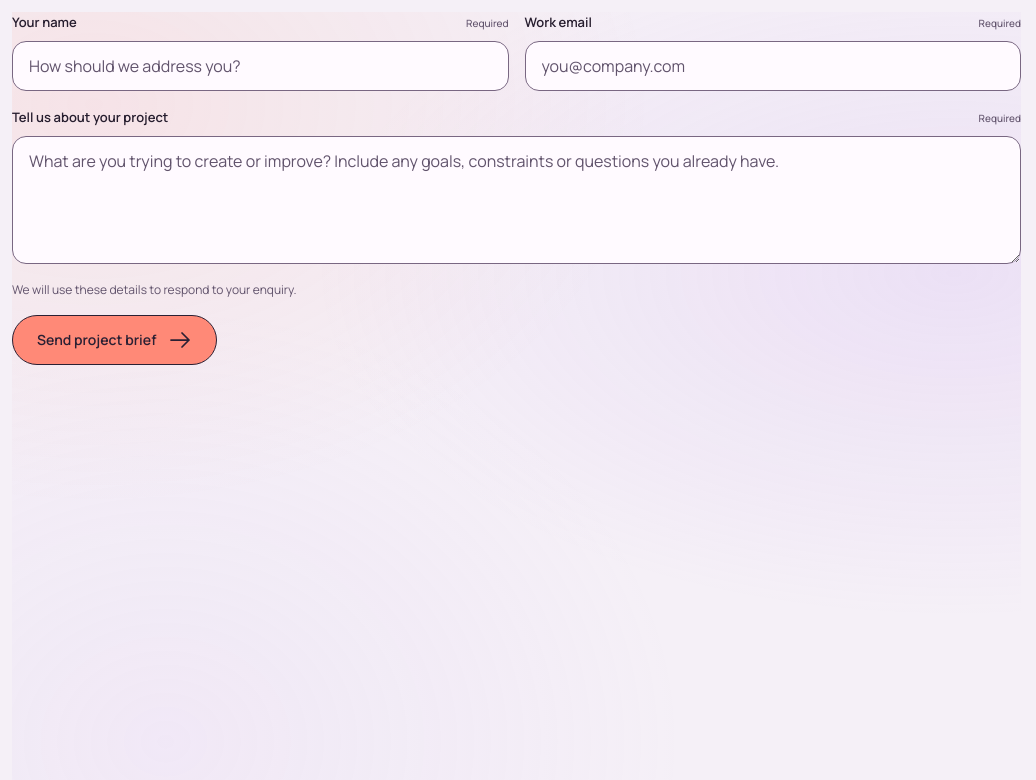
Test: short Home enquiry › maps server field errors into the same summary and inline description
This screenshot has width=1036, height=780.
Type "  Alex Morgan  " into the field labelled "Your name Required" at coordinates (260, 66), box [12,41,508,91]
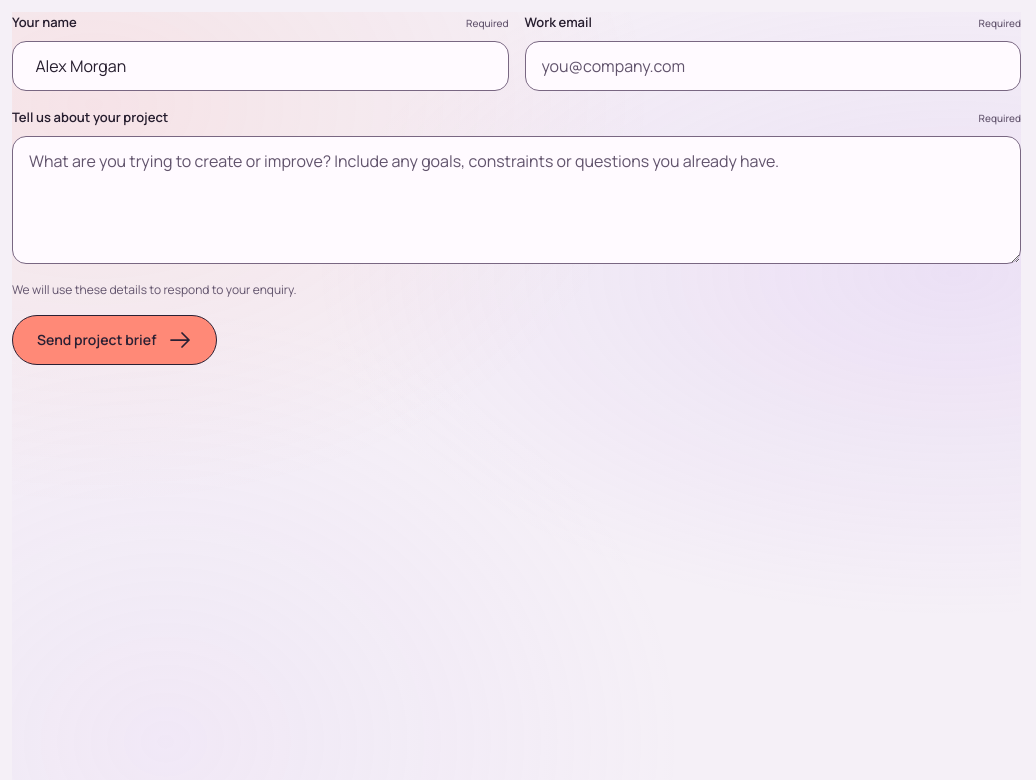
Type "alex@example.com" into the field labelled "Work email Required" at coordinates (773, 66), box [524,41,1021,91]
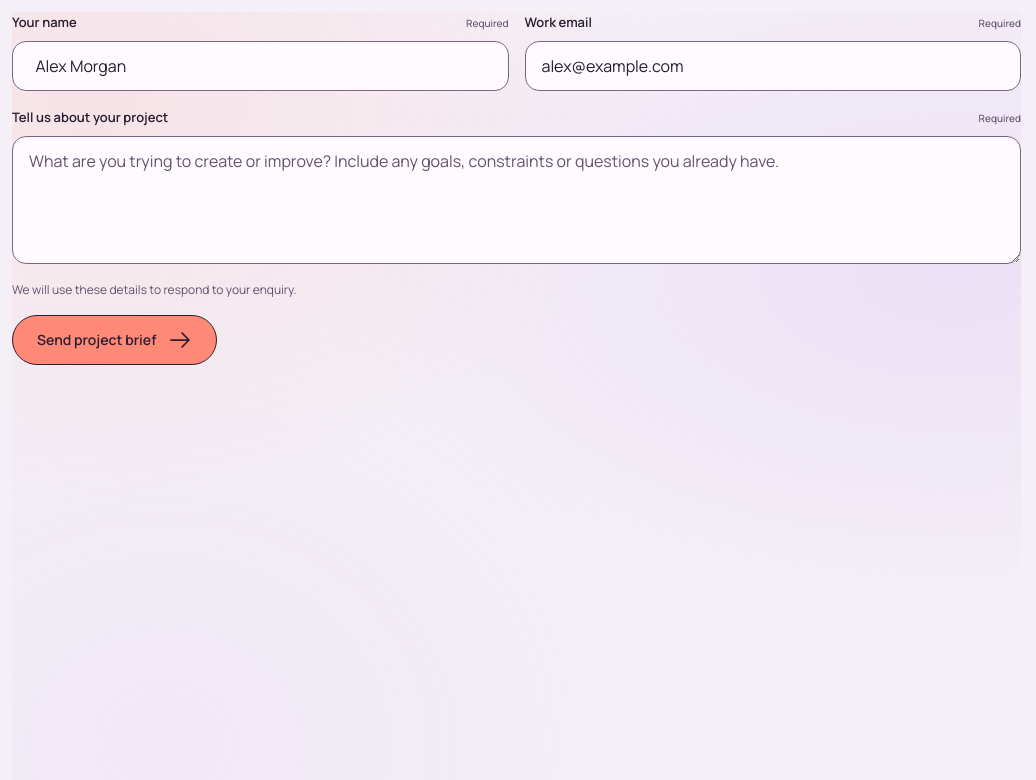
Replace the text in the text box labelled "Tell us about your project Required" with "We need a customer portal to replace our spreadsheet workflow." at coordinates (516, 200), box [12,136,1021,264]
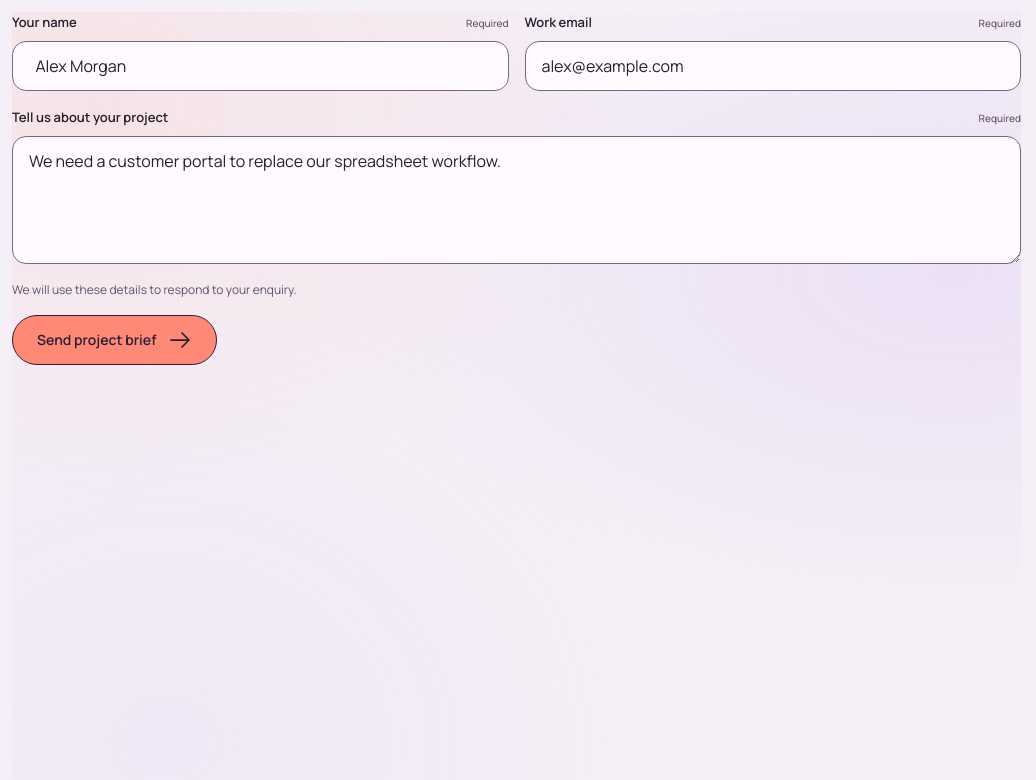
Click the button "Send project brief" at coordinates (115, 340), box [12,315,217,365]
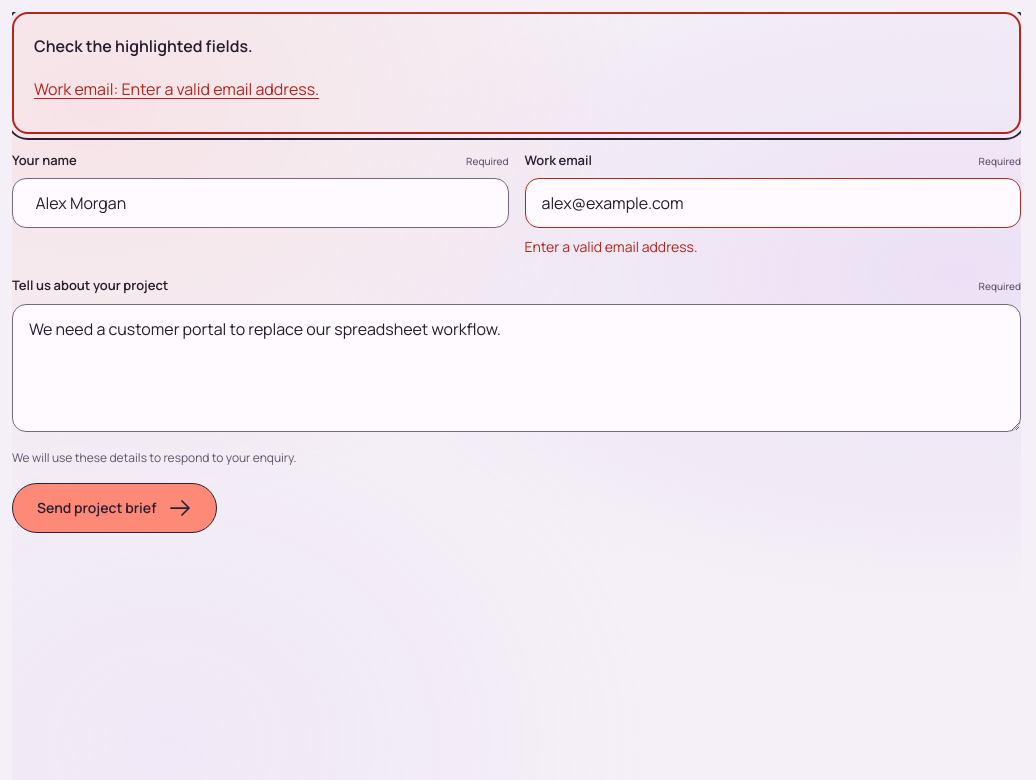
Check: the field labelled "Work email Required" has attribute aria-describedby="contact-email-error", box [524,178,1021,228]
